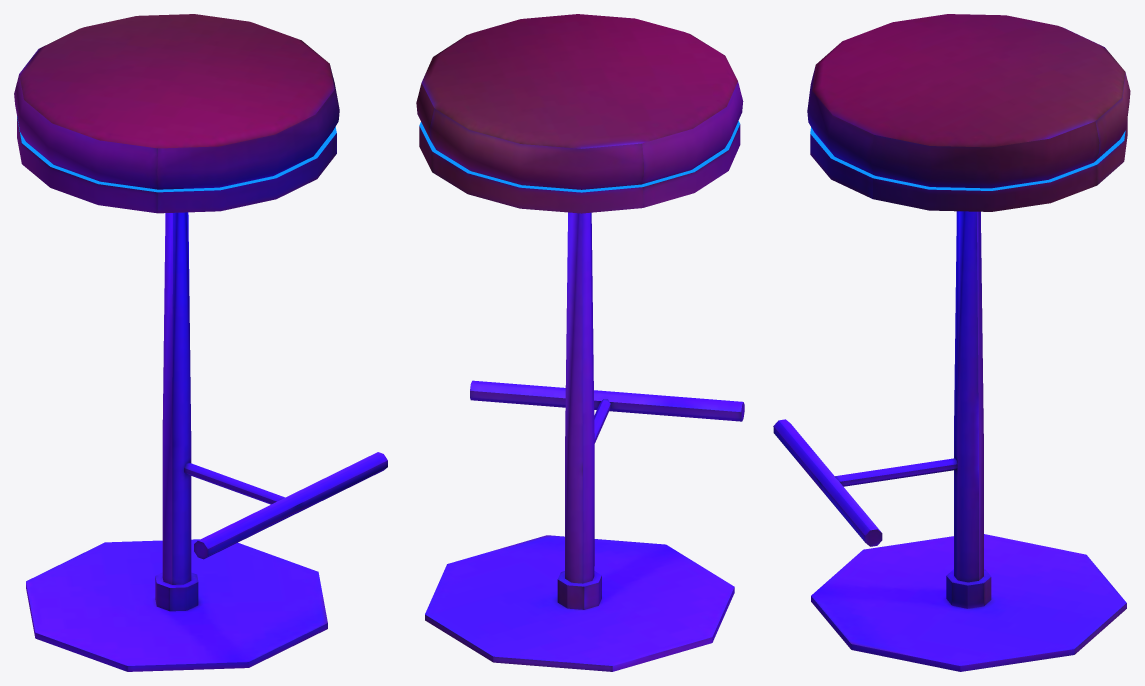
File: cleanBarStool.glb
3 renders of one model, left to right at view 1: azimuth 30°, elevation 25°; view 2: azimuth 150°, elevation 25°; view 3: azimuth 270°, elevation 25°, orthographic.
Visible parts, largest first — view 1: CleanBarStool; view 2: CleanBarStool; view 3: CleanBarStool.
Boxes of the visible parts, left/top/right/bottom form: CleanBarStool: left=14, top=14, right=387, bottom=671; CleanBarStool: left=416, top=14, right=744, bottom=671; CleanBarStool: left=773, top=14, right=1130, bottom=671.
Bounding box in the file's own units: 0.548 × 0.9398 × 0.5682.
Materials: 2 (1 with a texture image).
